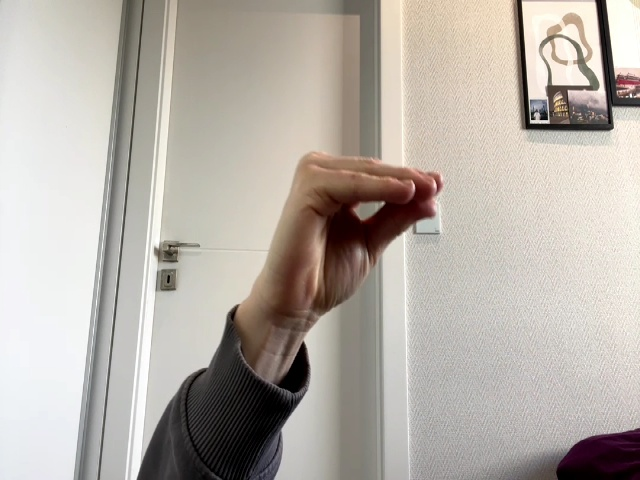E: (250, 152, 443, 337)
